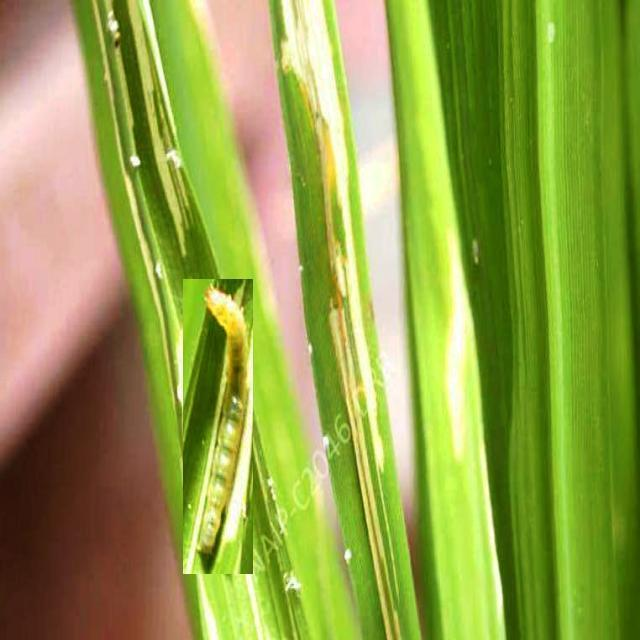leaf-folder: (183, 279, 253, 574)
